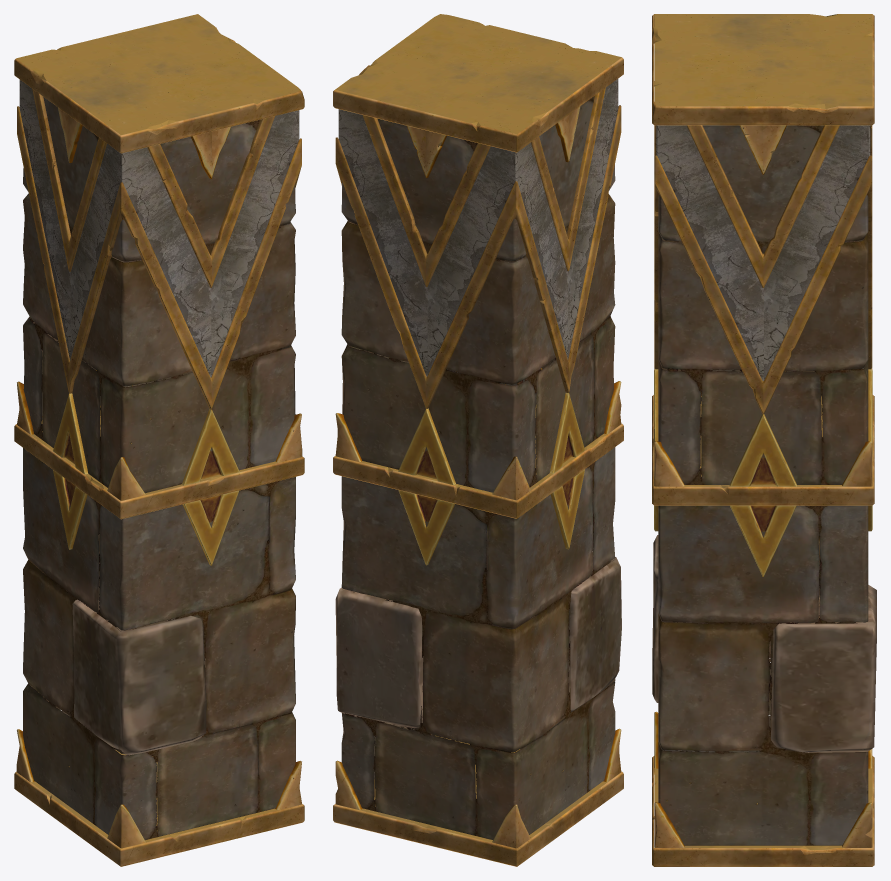
3 views of the same model, side by side, from view 1: azimuth 30°, elevation 25°; view 2: azimuth 150°, elevation 25°; view 3: azimuth 270°, elevation 25° (orthographic). The views are drawn at different scales.
Parts seen in each view (by area): view 1: SM_Vault_8m_Column_01_V1_LOD0; view 2: SM_Vault_8m_Column_01_V1_LOD0; view 3: SM_Vault_8m_Column_01_V1_LOD0.
Boxes of the visible parts, bbox=[...] form: SM_Vault_8m_Column_01_V1_LOD0: bbox=[14, 14, 304, 866]; SM_Vault_8m_Column_01_V1_LOD0: bbox=[333, 14, 623, 866]; SM_Vault_8m_Column_01_V1_LOD0: bbox=[652, 14, 876, 866].
Size of the model in its own units: 2.12 by 8 by 2.14.
6 materials, 6 textured.
